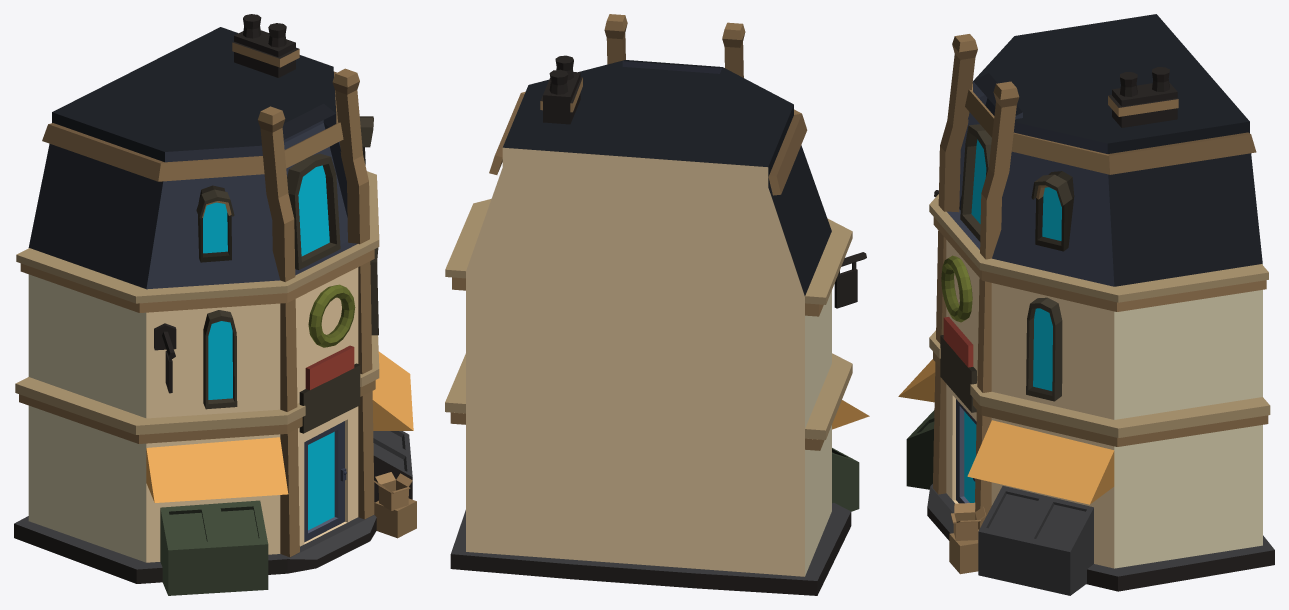
File: Market.gltf
3 renders of one model, left to right at view 1: azimuth 30°, elevation 25°; view 2: azimuth 150°, elevation 25°; view 3: azimuth 270°, elevation 25°, orthographic. The views are drawn at different scales.
Parts seen in each view (by area): view 1: house 1; view 2: house 1; view 3: house 1.
Part boxes in pixels (<box>): house 1: <box>14,14,416,595</box>; house 1: <box>445,14,869,595</box>; house 1: <box>898,14,1274,595</box>.
Bounding box in the file's own units: 6.25 × 7.31 × 5.32.
1 material, 1 textured.
